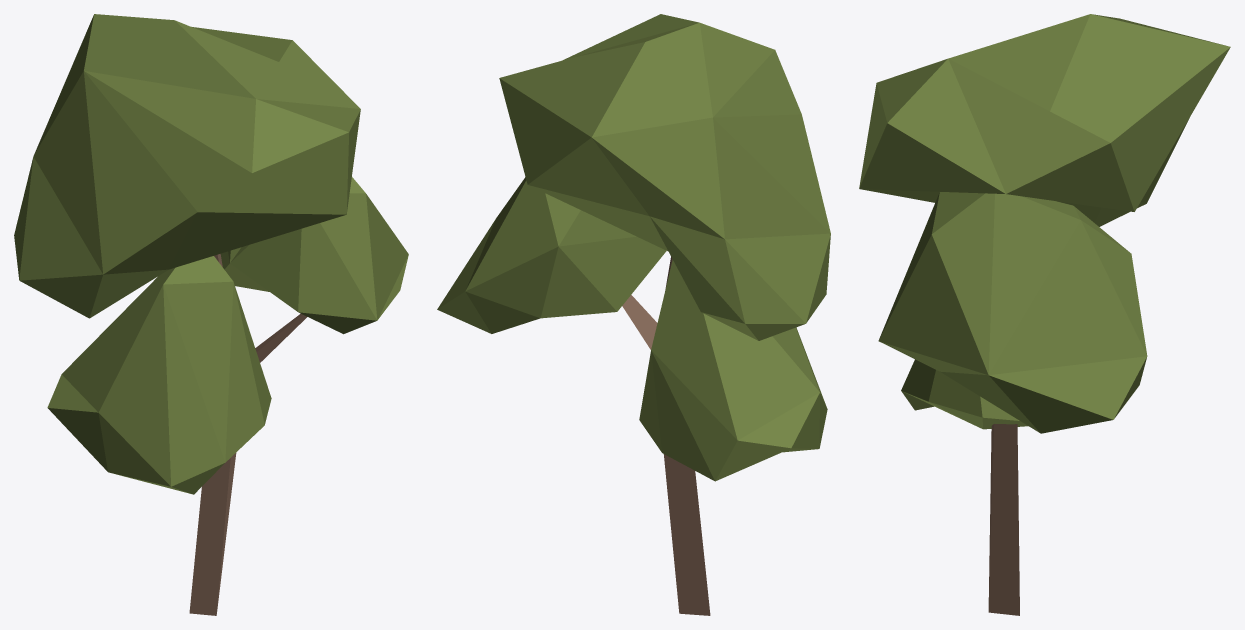
File: Tree Type3 01.glb
3 views of the same model, side by side, from view 1: azimuth 30°, elevation 25°; view 2: azimuth 150°, elevation 25°; view 3: azimuth 270°, elevation 25° (orthographic). The views are drawn at different scales.
Visible parts, largest first — view 1: Tree_Type3_01_mesh; view 2: Tree_Type3_01_mesh; view 3: Tree_Type3_01_mesh.
Part boxes in pixels (x1=…): Tree_Type3_01_mesh: x1=14, y1=14, x2=408, y2=615; Tree_Type3_01_mesh: x1=437, y1=14, x2=830, y2=615; Tree_Type3_01_mesh: x1=859, y1=14, x2=1230, y2=615.
Bounding box in the file's own units: 1.21 × 1.91 × 1.07.
1 material, 1 textured.
